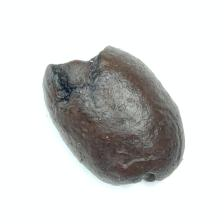NG: (43, 45, 113, 105), (111, 169, 163, 188)
